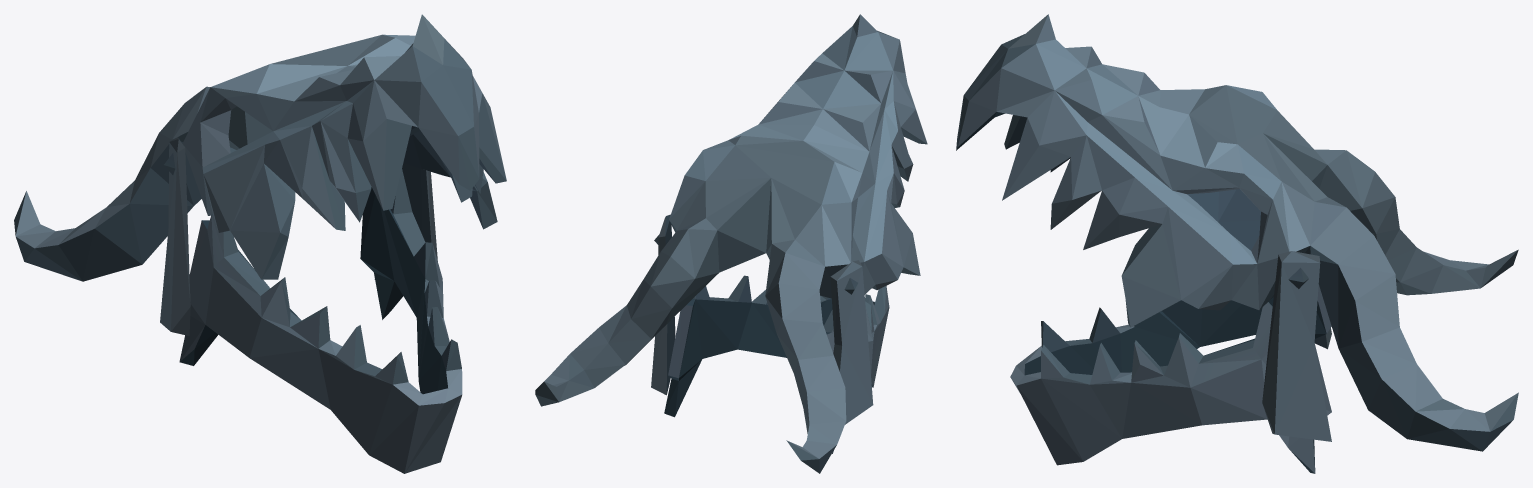
The model's file is smallCrossbowDragonTip.glb.
3 renders of one model, left to right at view 1: azimuth 30°, elevation 25°; view 2: azimuth 150°, elevation 25°; view 3: azimuth 270°, elevation 25°, orthographic. The views are drawn at different scales.
Visible parts, largest first — view 1: smallCrossbowDragonTip; view 2: smallCrossbowDragonTip; view 3: smallCrossbowDragonTip.
Part boxes in pixels (box(x1,y1,x2,y2)): smallCrossbowDragonTip: box(14, 14, 506, 473); smallCrossbowDragonTip: box(535, 14, 927, 473); smallCrossbowDragonTip: box(956, 14, 1518, 473).
Size of the model in its own units: 0.23 by 0.2808 by 0.3243.
